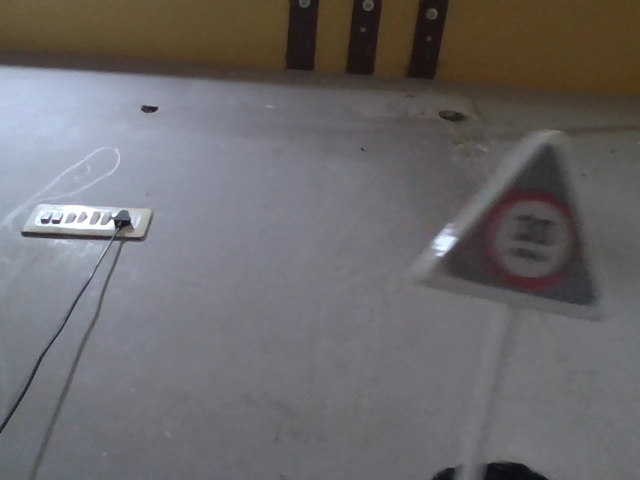speedlimit: (399, 117, 602, 319)
